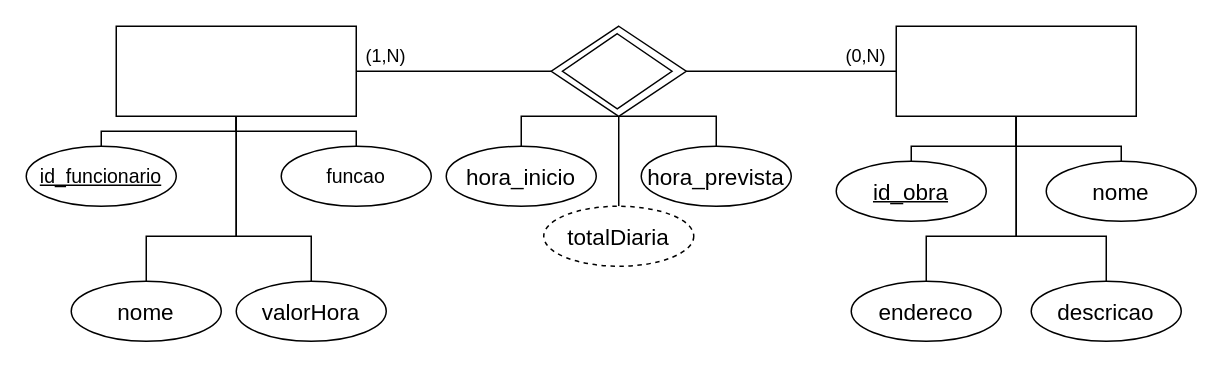
The diagram is 1223 pixels wide and 368 high, and some of its shapes have lost their labels. The box of each missing label's shape, as (x1, y1, x2, y2) in pixels:
Funcionarios: (115, 25, 356, 116)
Obras: (895, 25, 1136, 116)
Possui: (561, 32, 672, 109)
